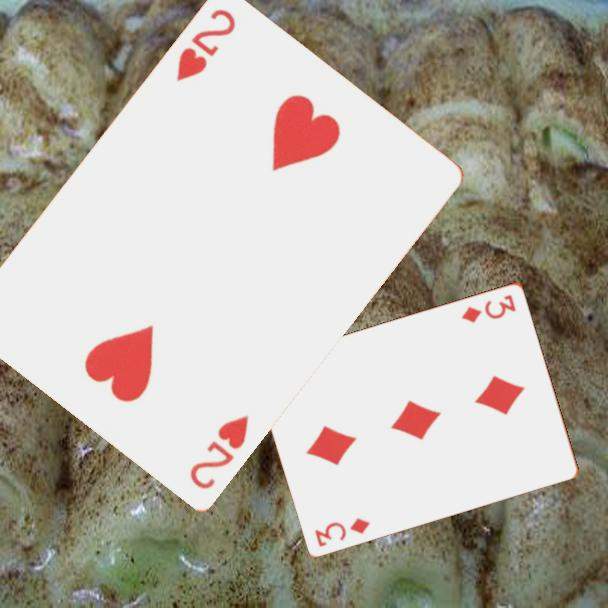d03: (312, 514, 373, 550), (458, 291, 519, 325)
h02: (186, 410, 252, 492), (172, 4, 239, 84)
